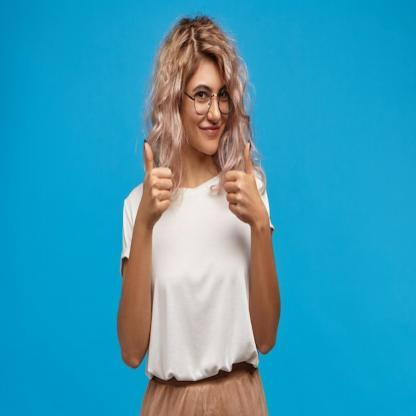thumb_up: (222, 136, 264, 226), (138, 135, 176, 226)
